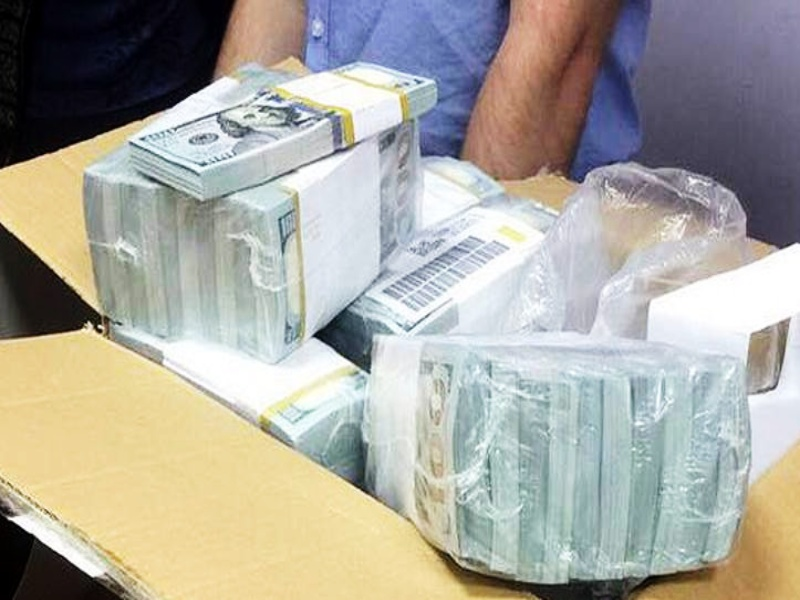cash: (85, 62, 439, 358), (367, 332, 751, 583)
person: (210, 1, 652, 179)
